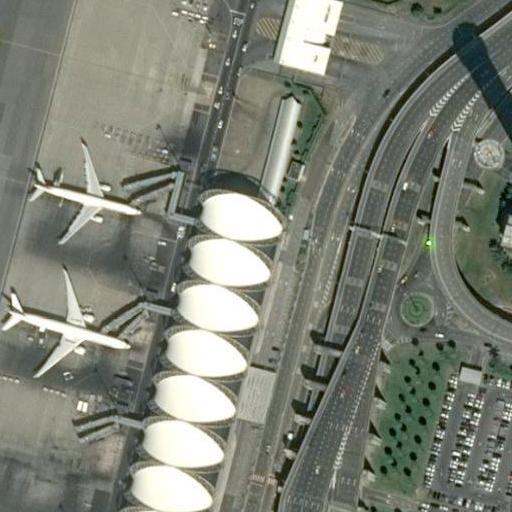Aircraft: (0, 265, 127, 377), (21, 138, 142, 244)
